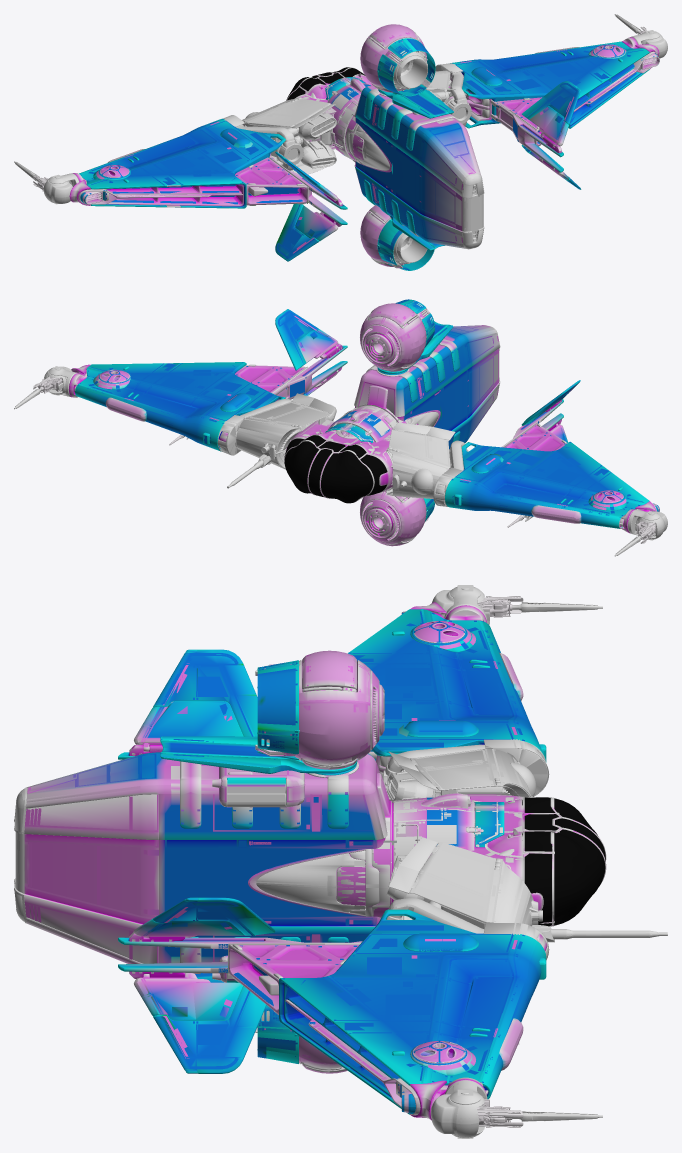
The picture shows the model from 3 angles, top to bottom: view 1: azimuth 30°, elevation 25°; view 2: azimuth 150°, elevation 25°; view 3: azimuth 270°, elevation 25°; orthographic projection. The views are drawn at different scales.
Visible parts, largest first — view 1: Body.002, Cockpit_Glass_Exterior.001; view 2: Body.002, Cockpit_Glass_Exterior.001; view 3: Body.002, Cockpit_Glass_Exterior.001.
Part boxes in pixels (x1=…): Body.002: x1=14, y1=14, x2=667, y2=270; Cockpit_Glass_Exterior.001: x1=286, y1=67, x2=365, y2=100; Body.002: x1=14, y1=299, x2=667, y2=556; Cockpit_Glass_Exterior.001: x1=284, y1=435, x2=387, y2=503; Body.002: x1=14, y1=585, x2=667, y2=1138; Cockpit_Glass_Exterior.001: x1=522, y1=797, x2=605, y2=926.
Size of the model in its own units: 90.43 by 33.09 by 47.61.
